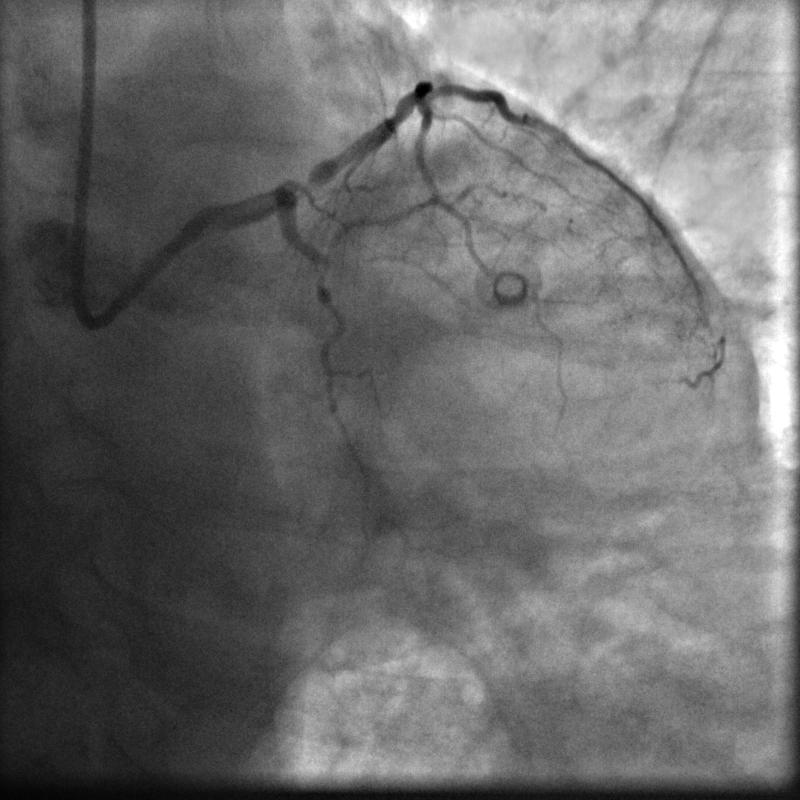Stenosis: (281, 168, 328, 200)
